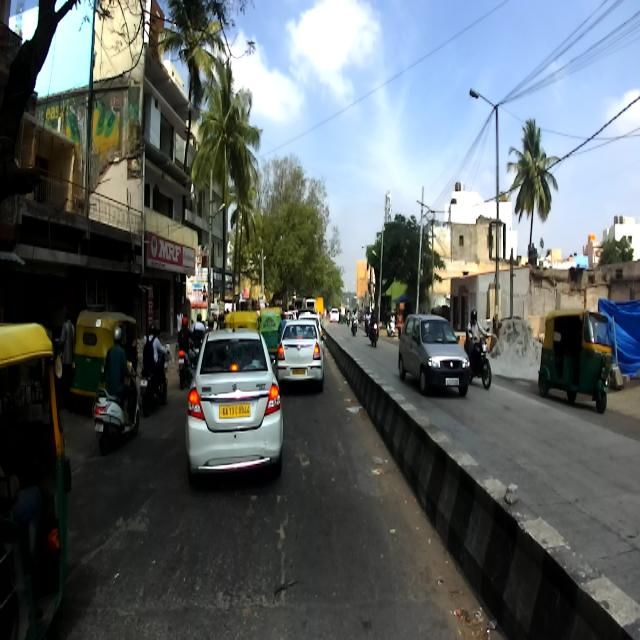auto ahead at: (73, 310, 117, 411)
car ahead at: (186, 322, 278, 470)
motorcycle ahead at: (94, 376, 142, 454)
